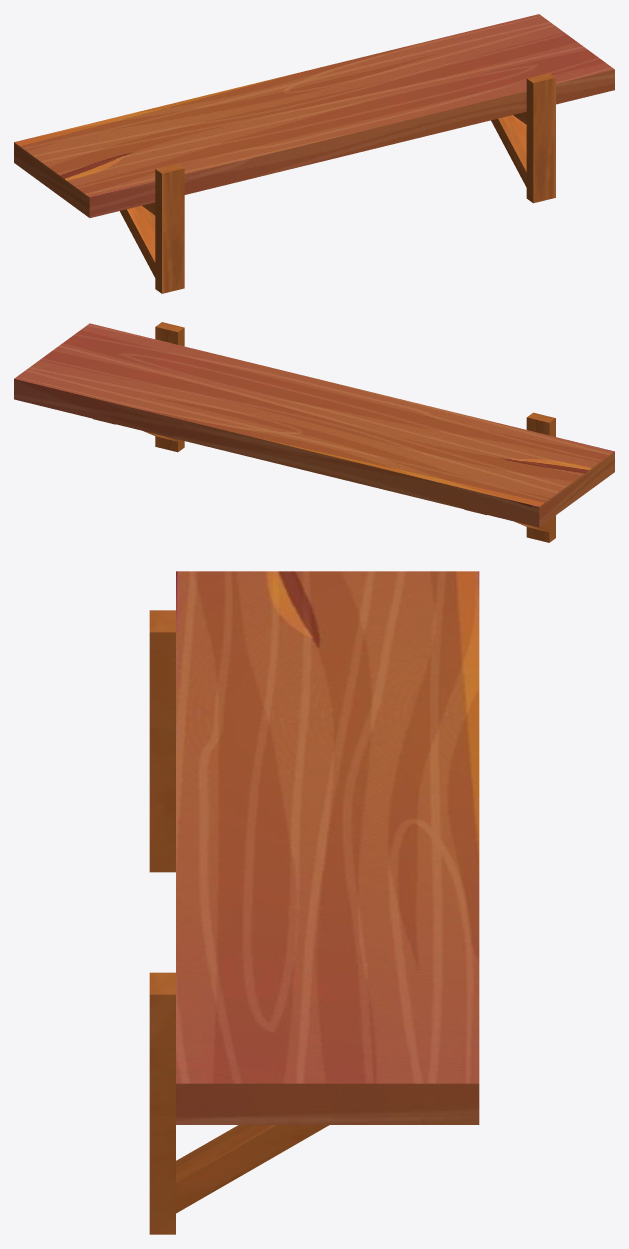
Rendered from etagere.fbx.
The picture shows the model from 3 angles, top to bottom: view 1: azimuth 30°, elevation 25°; view 2: azimuth 150°, elevation 25°; view 3: azimuth 270°, elevation 25°; orthographic projection. The views are drawn at different scales.
Visible parts, largest first — view 1: Planche, Supports; view 2: Planche, Supports; view 3: Planche, Supports.
Boxes of the visible parts, x1,y1,x2,y2 form: Planche: (14, 14, 614, 217); Supports: (120, 73, 555, 293); Planche: (14, 323, 614, 527); Supports: (93, 322, 555, 542); Planche: (176, 571, 479, 1124); Supports: (149, 610, 329, 1234).
Size of the model in its own units: 400 by 87.37 by 109.
2 materials, 2 textured.
